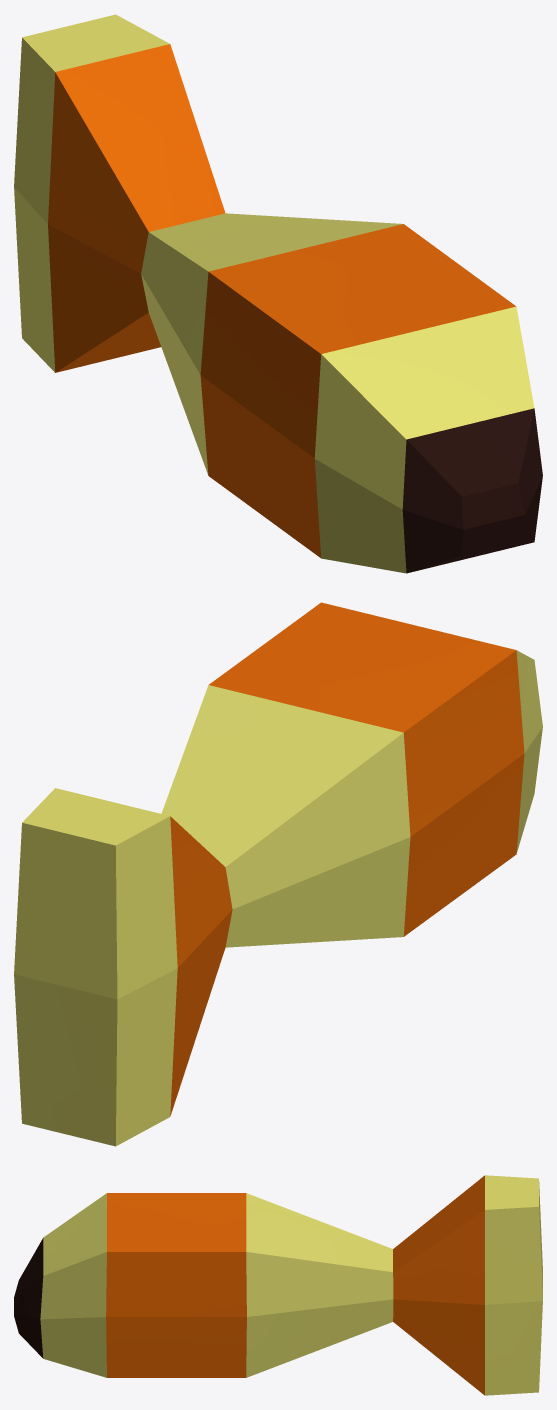
File: fish3.fbx
3 renders of one model, top to bottom at view 1: azimuth 30°, elevation 25°; view 2: azimuth 150°, elevation 25°; view 3: azimuth 270°, elevation 25°, orthographic. The views are drawn at different scales.
Parts seen in each view (by area): view 1: Cube; view 2: Cube; view 3: Cube.
Boxes of the visible parts, <box> form: Cube: <box>14,14,542,573</box>; Cube: <box>14,602,542,1146</box>; Cube: <box>14,1175,542,1395</box>.
Bounding box in the file's own units: 42.98 × 58.89 × 152.
1 material, 1 textured.
